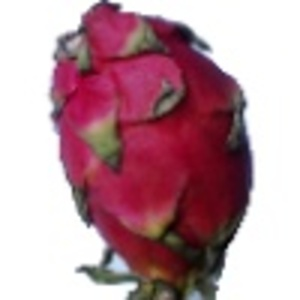pitaia: (49, 1, 256, 300)
